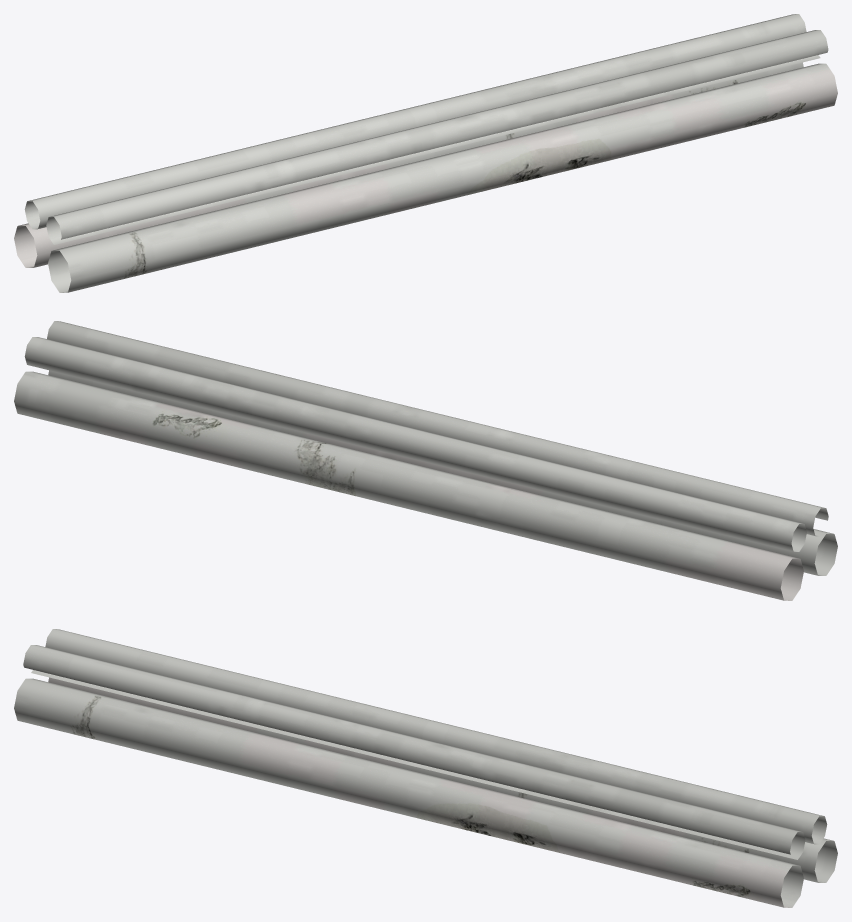
File: WireStraight.fbx
The picture shows the model from 3 angles, top to bottom: view 1: azimuth 30°, elevation 25°; view 2: azimuth 150°, elevation 25°; view 3: azimuth 330°, elevation 25°; orthographic projection.
Parts seen in each view (by area): view 1: Straight; view 2: Straight; view 3: Straight.
Boxes of the visible parts, left/top/right/bottom form: Straight: left=14, top=14, right=837, bottom=292; Straight: left=14, top=321, right=837, bottom=600; Straight: left=14, top=629, right=837, bottom=907.
Size of the model in its own units: 200 by 17.92 by 25.87.
1 material, 1 textured.
